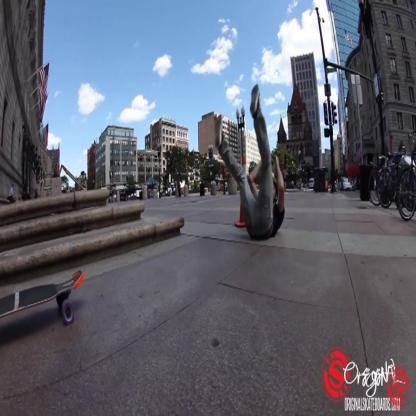Fall_Down: (215, 83, 287, 242)
